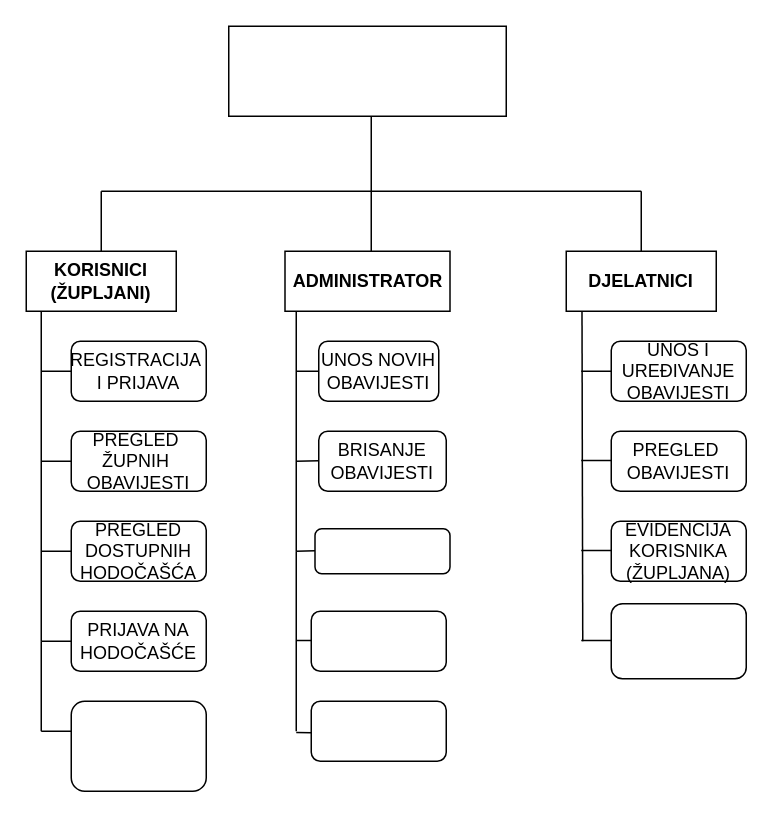
The diagram is 773 pixels wide and 818 high, and some of its shapes have lost their labels. The box of each missing label's shape, as (x1, y1, x2, y2) in pixels:
BRISANJE KORISNIKA IZ BAZE: (310, 700, 446, 761)
EVIDENCIJA DJELATNIKA I KORISNIKA: (310, 610, 446, 671)
Informacijski sustav za župni ured Uskoplje: (227, 25, 506, 116)
PREGLED OBRASCA KORISNIKA: (610, 602, 746, 679)
PREGLED ŽUPNIH AKTIVNOSTI I PRIJAVA: (70, 700, 206, 791)
UPRAVLJANJE SUSTAVOM: (314, 527, 450, 574)
